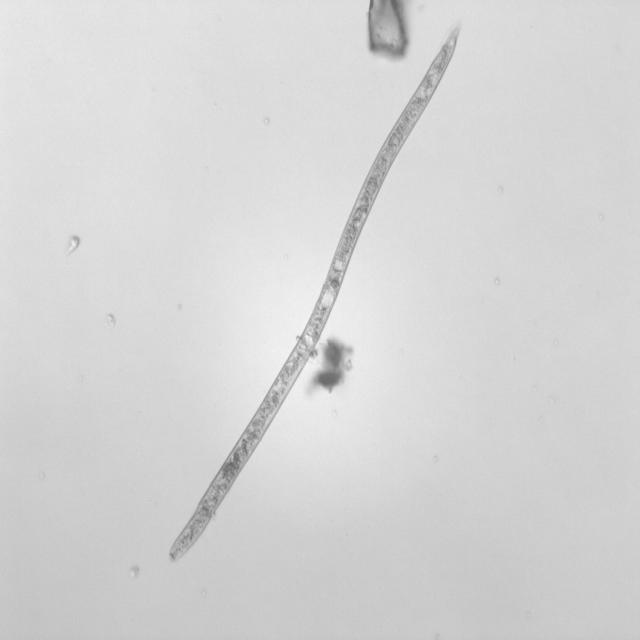Pratylenchus: (160, 12, 466, 568)
